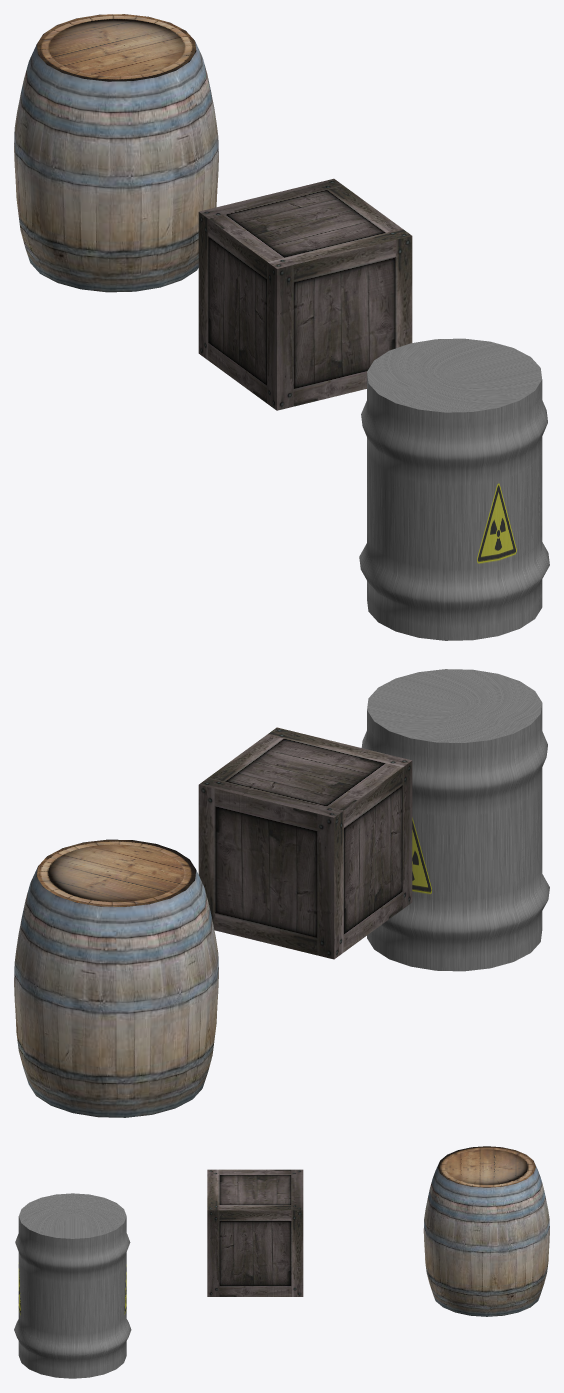
File: MidtermSceneOwenWalsh.fbx
The picture shows the model from 3 angles, top to bottom: view 1: azimuth 30°, elevation 25°; view 2: azimuth 150°, elevation 25°; view 3: azimuth 270°, elevation 25°; orthographic projection. The views are drawn at different scales.
Visible parts, largest first — view 1: pCylinder2, pCylinder1, pCube1; view 2: pCylinder1, pCylinder2, pCube1; view 3: pCylinder2, pCylinder1, pCube1.
Boxes of the visible parts, x1,y1,x2,y2 form: pCylinder2: (359, 338, 549, 640); pCylinder1: (14, 14, 218, 292); pCube1: (198, 178, 412, 410); pCylinder1: (14, 839, 218, 1117); pCylinder2: (361, 669, 549, 971); pCube1: (198, 727, 412, 959); pCylinder2: (14, 1193, 131, 1378); pCylinder1: (423, 1146, 549, 1316); pCube1: (207, 1169, 303, 1296).
Bounding box in the file's own units: 2.34 × 3.86 × 9.94.
Materials: 4 (4 with a texture image).
